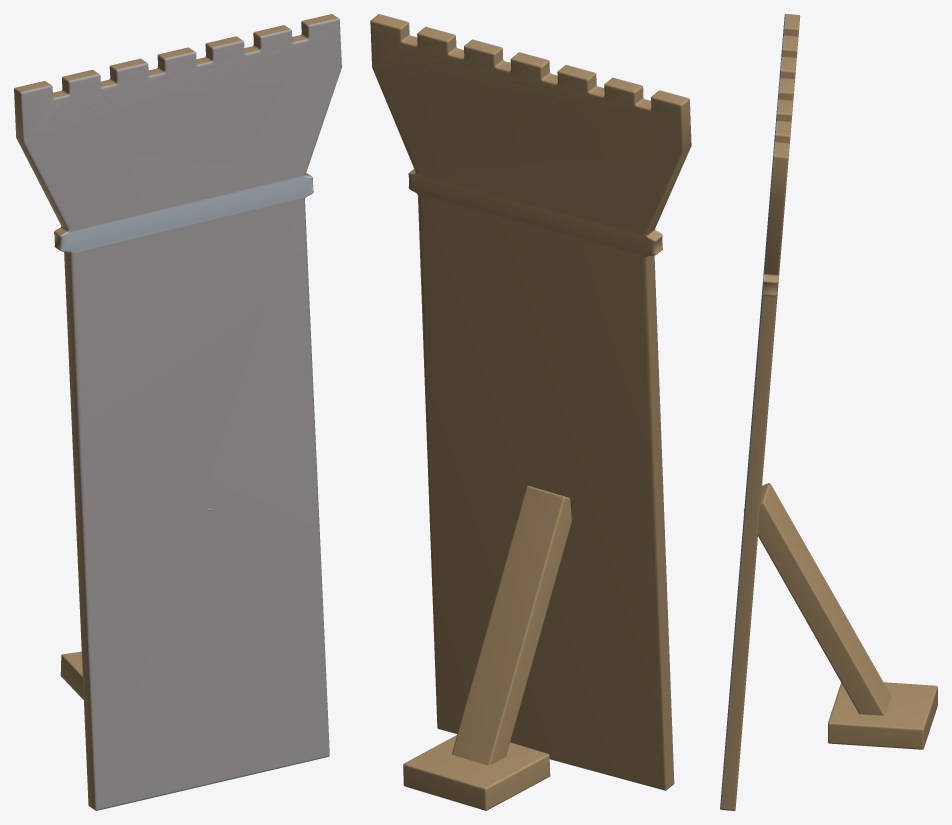
File: Turm.fbx
The picture shows the model from 3 angles, left to right: view 1: azimuth 30°, elevation 25°; view 2: azimuth 150°, elevation 25°; view 3: azimuth 270°, elevation 25°; orthographic projection. The views are drawn at different scales.
Visible parts, largest first — view 1: Turm; view 2: Turm; view 3: Turm.
Part boxes in pixels (x1,y1,x2,y2): Turm: (14,14,341,810); Turm: (370,14,691,810); Turm: (720,14,937,810).
Bounding box in the file's own units: 167 × 362 × 106.
